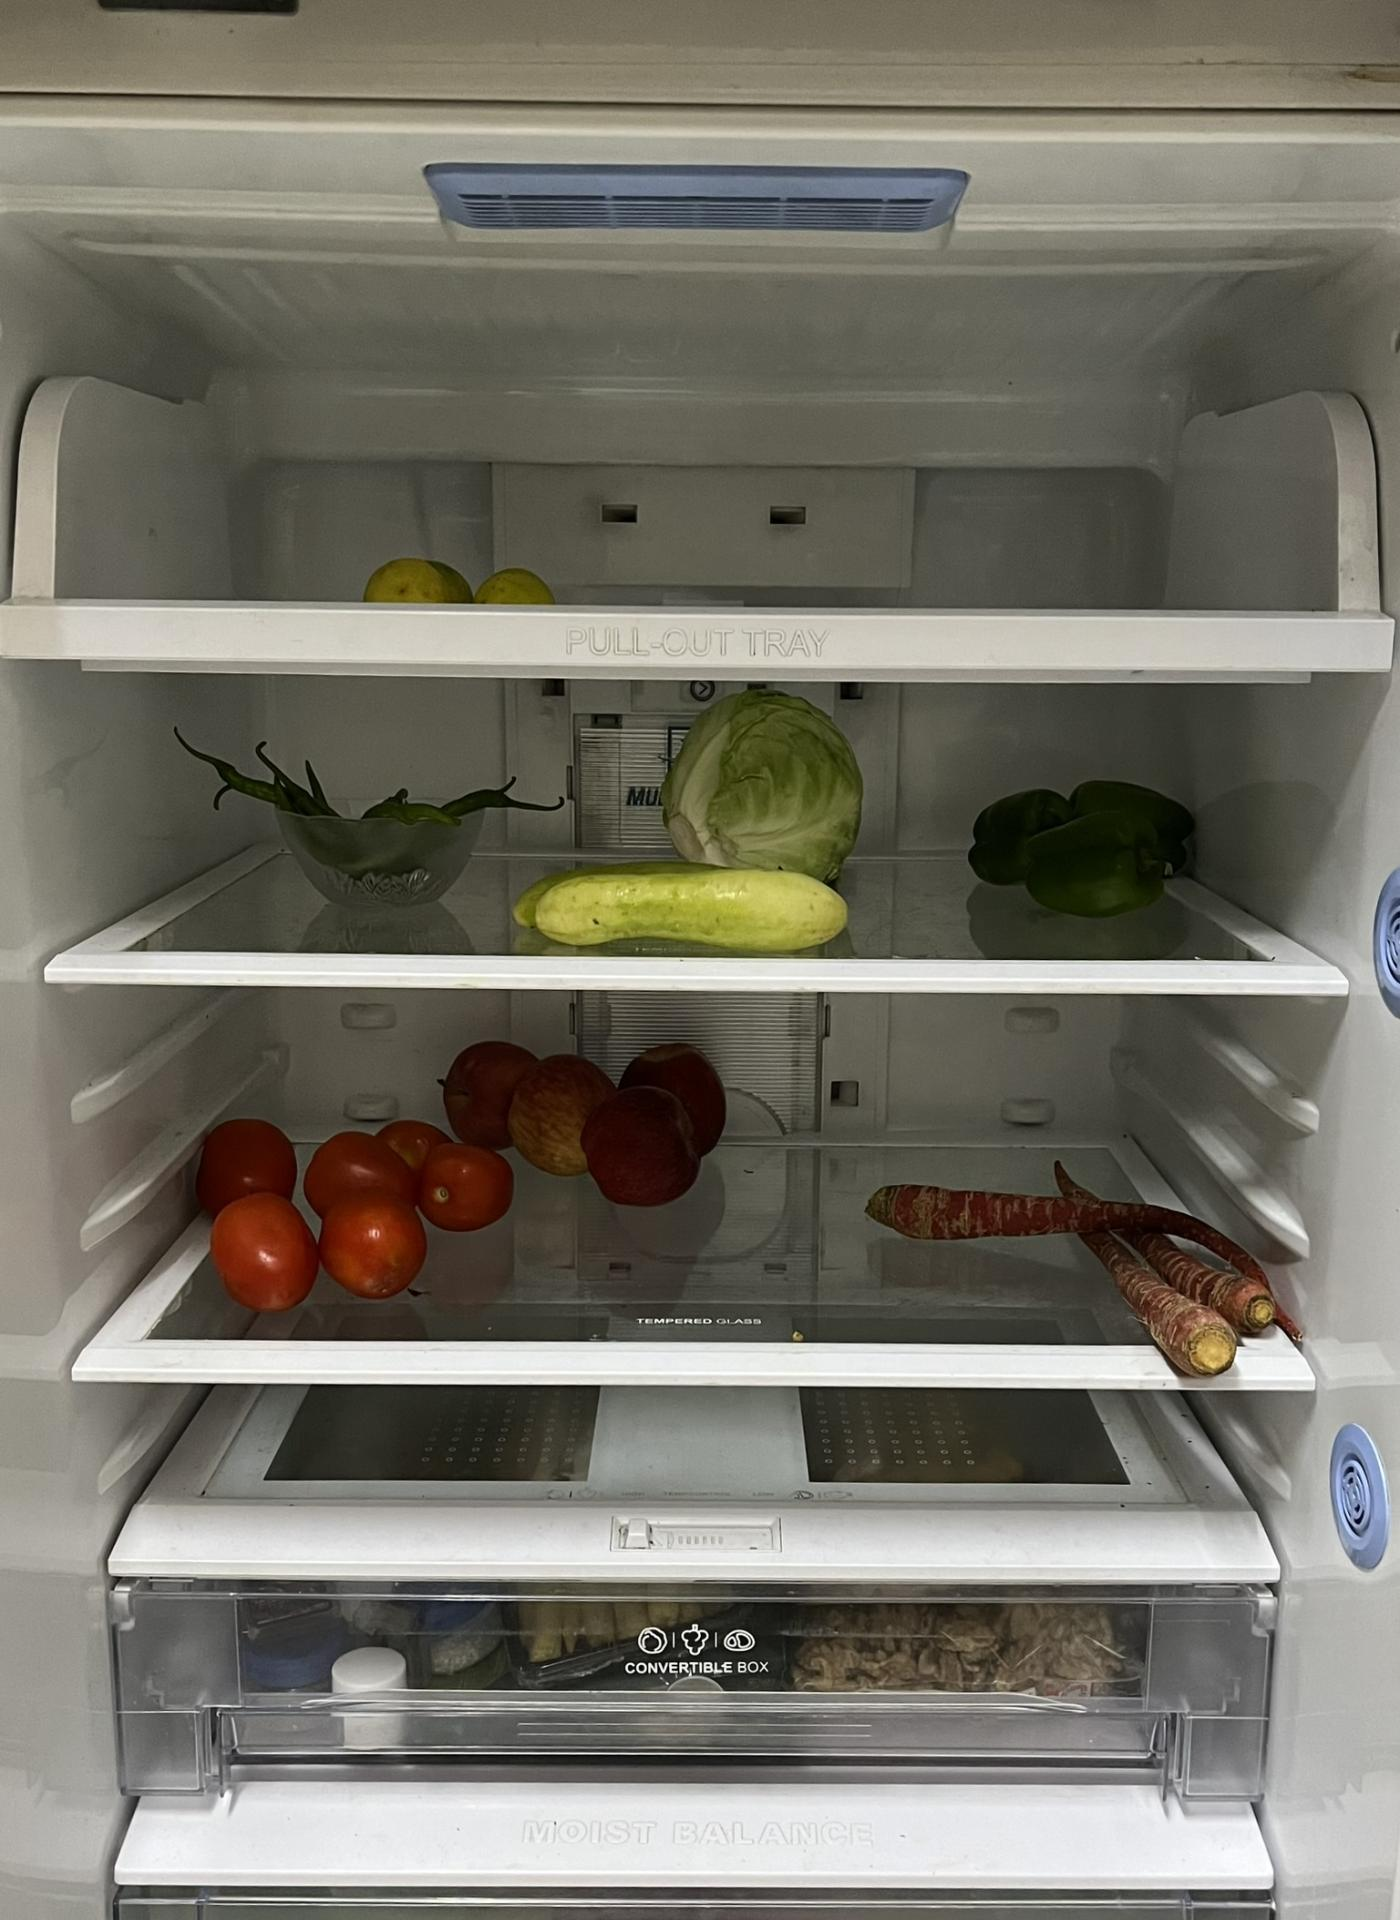apple: (443, 1035, 731, 1207)
cabbage: (668, 698, 865, 878)
capsicum: (965, 778, 1208, 917)
carrots: (874, 1175, 1290, 1382)
chillies: (183, 744, 498, 890)
cucumber: (511, 863, 857, 948)
lemon: (355, 553, 552, 610)
tomato: (203, 1108, 510, 1301)
